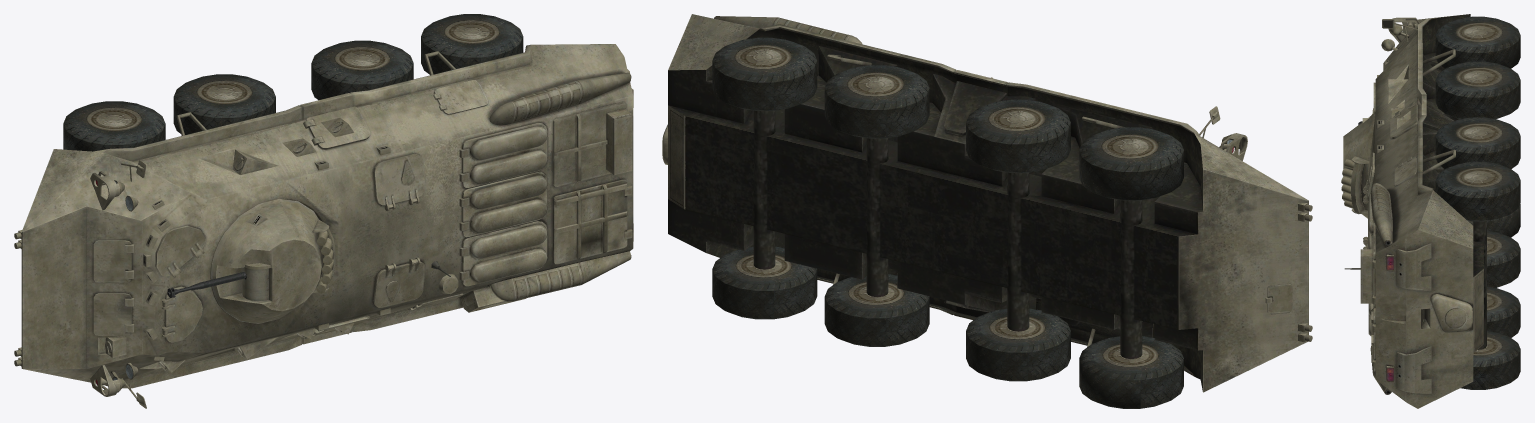
The picture shows the model from 3 angles, left to right: view 1: azimuth 30°, elevation 25°; view 2: azimuth 150°, elevation 25°; view 3: azimuth 270°, elevation 25°; orthographic projection. The views are drawn at different scales.
Visible parts, largest first — view 1: body, wheels, cannon; view 2: body, wheels; view 3: body, wheels, lights.
Boxes of the visible parts, left/top/right/bottom form: body: left=14, top=44, right=633, bottom=408; wheels: left=63, top=14, right=523, bottom=151; cannon: left=167, top=272, right=246, bottom=297; body: left=662, top=14, right=1312, bottom=392; wheels: left=712, top=37, right=1183, bottom=408; body: left=1341, top=14, right=1486, bottom=408; wheels: left=1435, top=16, right=1520, bottom=389; lights: left=1386, top=256, right=1393, bottom=382.
Size of the model in its own units: 161 by 129 by 420.
Materials: 4 (4 with a texture image).
